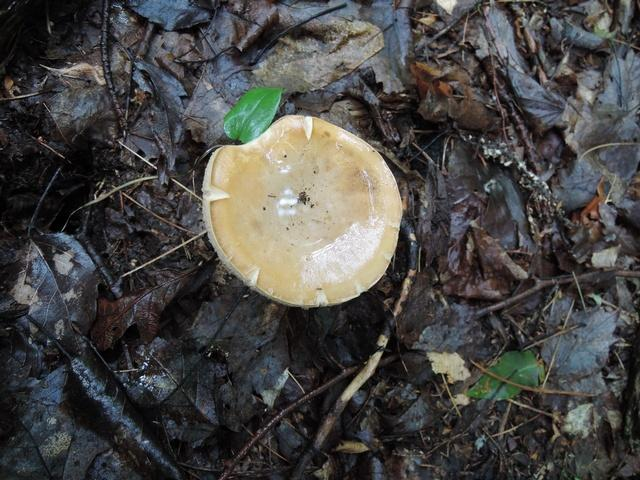Non-edible Mushroom: (200, 113, 403, 309)
